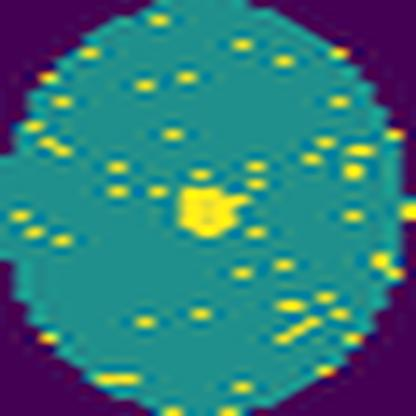Center: (180, 185, 248, 242)
